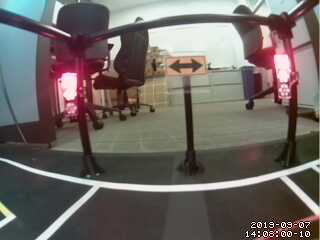Left_Right_sign: (267, 55, 291, 96), (60, 72, 78, 122)
